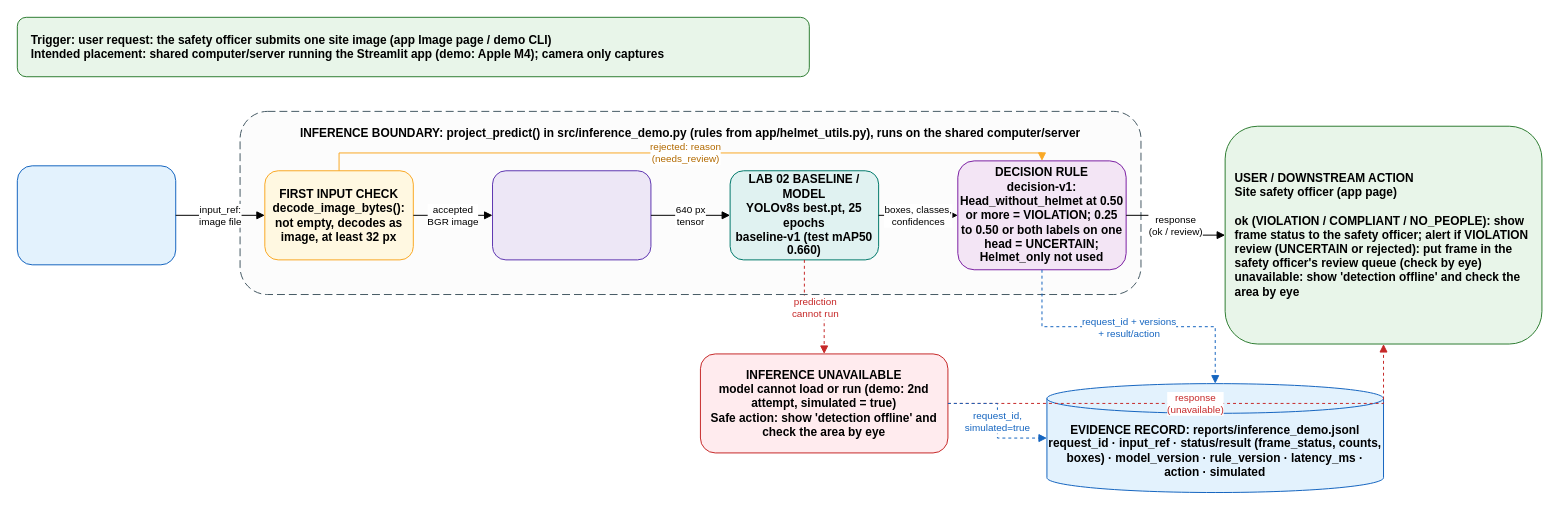
Some shapes in this 1559 by 510 pixel diagram are drawn without their labels. The shapes that lost their labels are listed below. From the top down, each one's centre as x and y in pixels, then its label:
At point (96, 215): "REAL INPUT SOURCE Construction-site photo (JPG/PNG) from a phone or site camera".
At point (571, 215): "PREPROCESSING letterbox resize to 640 px, normalise (inside Ultralytics predict)".
